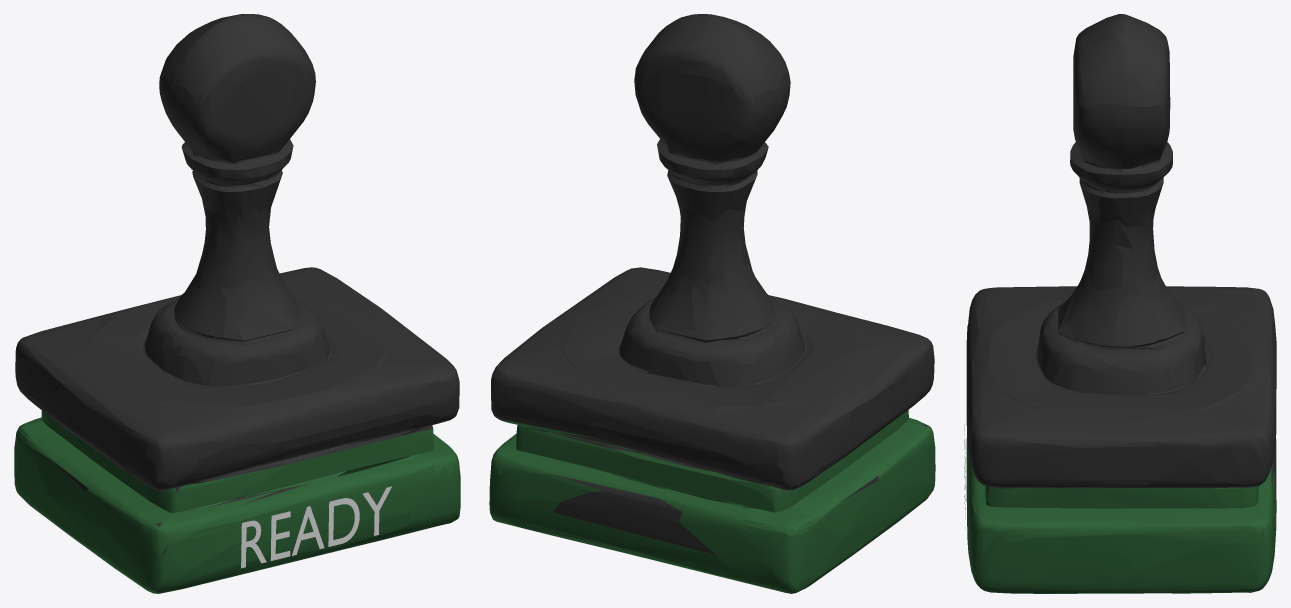
File: Stamp_READY.fbx
3 views of the same model, side by side, from view 1: azimuth 30°, elevation 25°; view 2: azimuth 150°, elevation 25°; view 3: azimuth 270°, elevation 25° (orthographic).
Visible parts, largest first — view 1: Stamp_Ready, Ready_Text; view 2: Stamp_Ready; view 3: Stamp_Ready.
Part boxes in pixels (x1,y1,x2,y2): Stamp_Ready: (14, 14, 460, 593); Ready_Text: (241, 486, 391, 568); Stamp_Ready: (489, 14, 935, 593); Stamp_Ready: (966, 14, 1276, 593).
Size of the model in its own units: 127 by 107 by 190.
